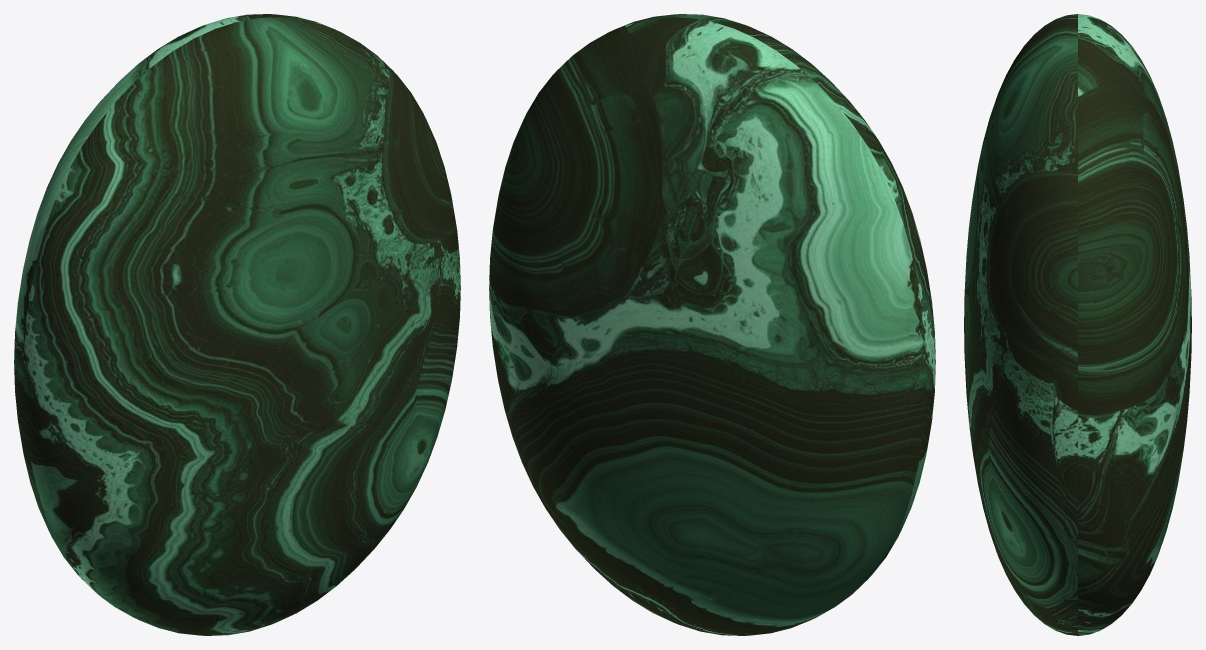
The model's file is Malachite.fbx.
3 renders of one model, left to right at view 1: azimuth 30°, elevation 25°; view 2: azimuth 150°, elevation 25°; view 3: azimuth 270°, elevation 25°, orthographic. The views are drawn at different scales.
Parts seen in each view (by area): view 1: Malachite; view 2: Malachite; view 3: Malachite.
Boxes of the visible parts, bbox=[...] form: Malachite: bbox=[14, 14, 460, 635]; Malachite: bbox=[489, 14, 935, 635]; Malachite: bbox=[964, 14, 1191, 635].
Bounding box in the file's own units: 0.1398 × 0.1893 × 0.0666.
1 material, 1 textured.
